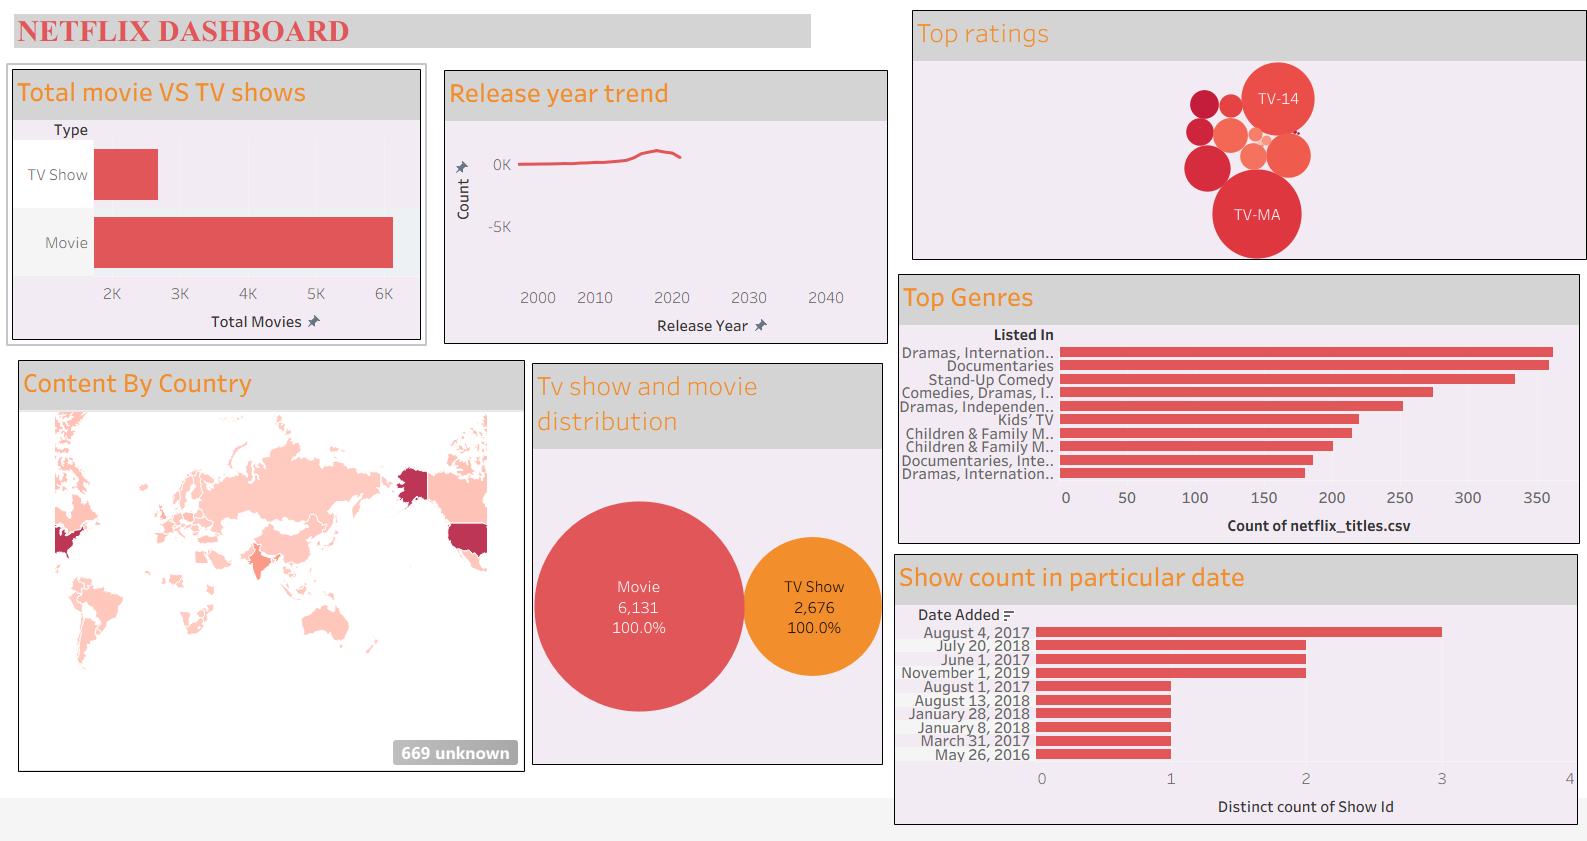

The page's visual inventory and layout, read from the dashboard file:
{"tool":"tableau","page":{"name":"Dashboard 4","canvas":[1600,800],"ordinal":3},"visuals":[{"type":"worksheet","title":"Top ratings","mark":"Circle","box":[908,8,683,258]},{"type":"text","box":[10,12,805,42]},{"type":"worksheet","title":"Total movie VS TV shows","mark":"Automatic","rows":["type"],"cols":["netflix_titles.csv_7E6DCB6EA2F2495A9B70C5326DB7DCD6"],"box":[8,67,417,279]},{"type":"worksheet","title":"Release year trend","mark":"Automatic","rows":["netflix_titles.csv_7E6DCB6EA2F2495A9B70C5326DB7DCD6"],"cols":["release_year"],"box":[440,68,452,282]},{"type":"worksheet","title":"Top Genres","mark":"Automatic","rows":["listed_in"],"cols":["netflix_titles.csv_7E6DCB6EA2F2495A9B70C5326DB7DCD6"],"box":[894,272,690,278]},{"type":"worksheet","title":"Content By Country","mark":"Automatic","box":[14,358,515,420]},{"type":"worksheet","title":"Tv show and movie distribution","mark":"Circle","box":[528,361,359,410]}]}

Visuals, with their boxes in screenshot pixels (x1, y1, x2, y2):
"Top ratings" worksheet (Circle marks): (896, 8, 1565, 260)
text: (18, 12, 805, 53)
"Total movie VS TV shows" worksheet: (16, 66, 424, 338)
"Release year trend" worksheet: (439, 67, 881, 342)
"Top Genres" worksheet: (883, 266, 1558, 538)
"Content By Country" worksheet: (22, 350, 526, 761)
"Tv show and movie distribution" worksheet (Circle marks): (525, 353, 876, 754)
